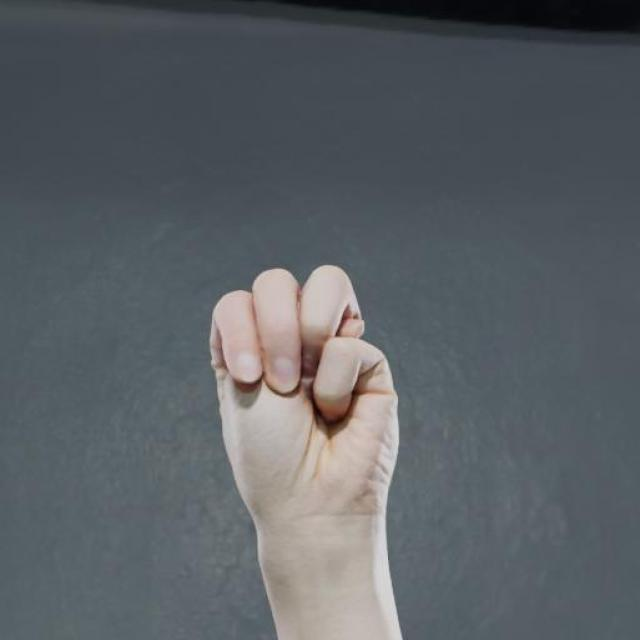M: (206, 259, 405, 533)
